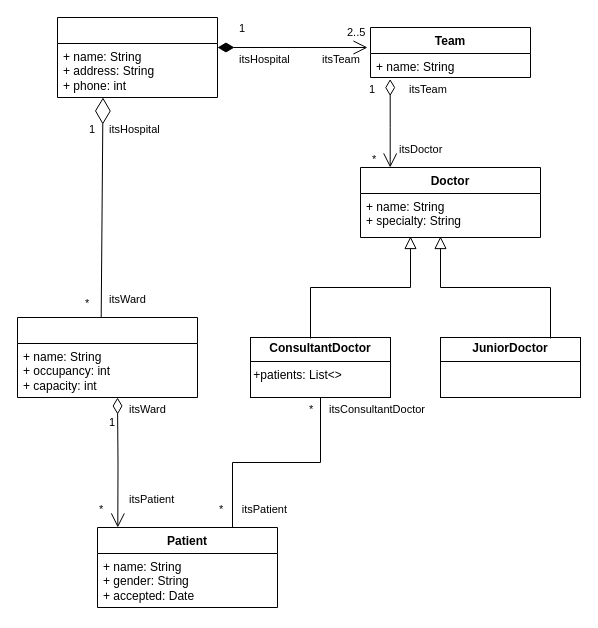
Some shapes in this 598 by 628 pixel diagram are drawn without their labels. The shapes that lost their labels are listed below. From the top down, each one's box as (x1, y1, x2, y2) in pixels, then its label:
(56, 16, 218, 98): Hospital
(16, 316, 198, 398): Ward
